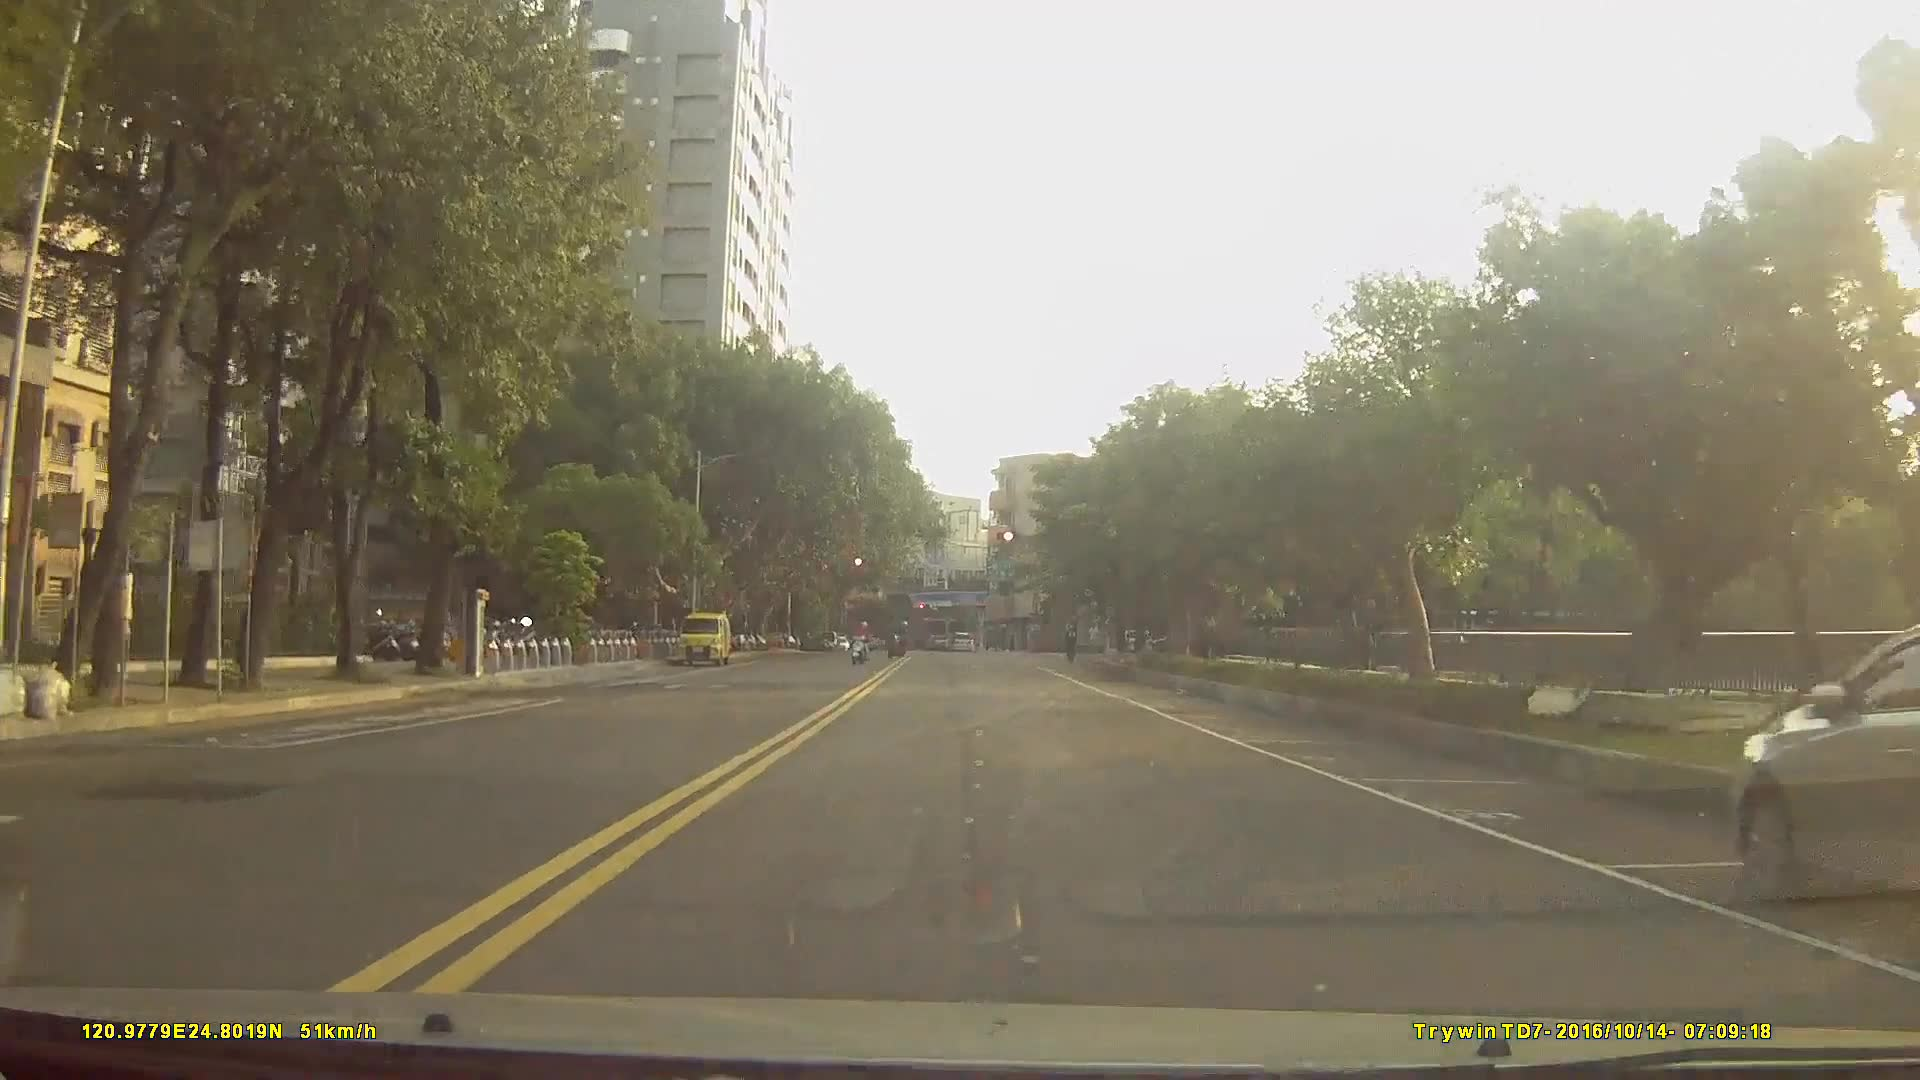pedestrian: (1086, 616, 1106, 659)
rider: (848, 617, 877, 667), (886, 617, 911, 661)
vehicle: (1729, 622, 1919, 912), (946, 628, 976, 652)
